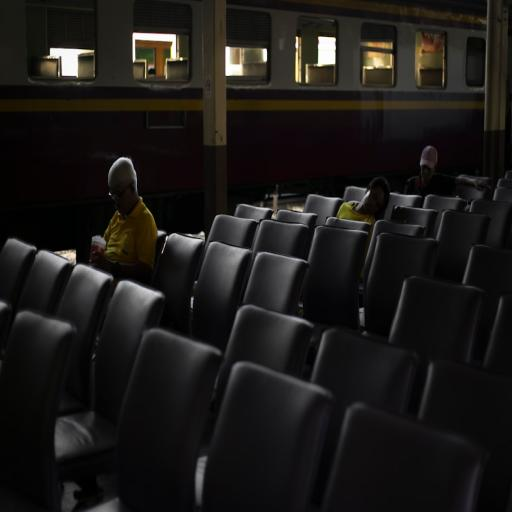face: (109, 183, 133, 215), (419, 145, 438, 184), (361, 186, 385, 216)
